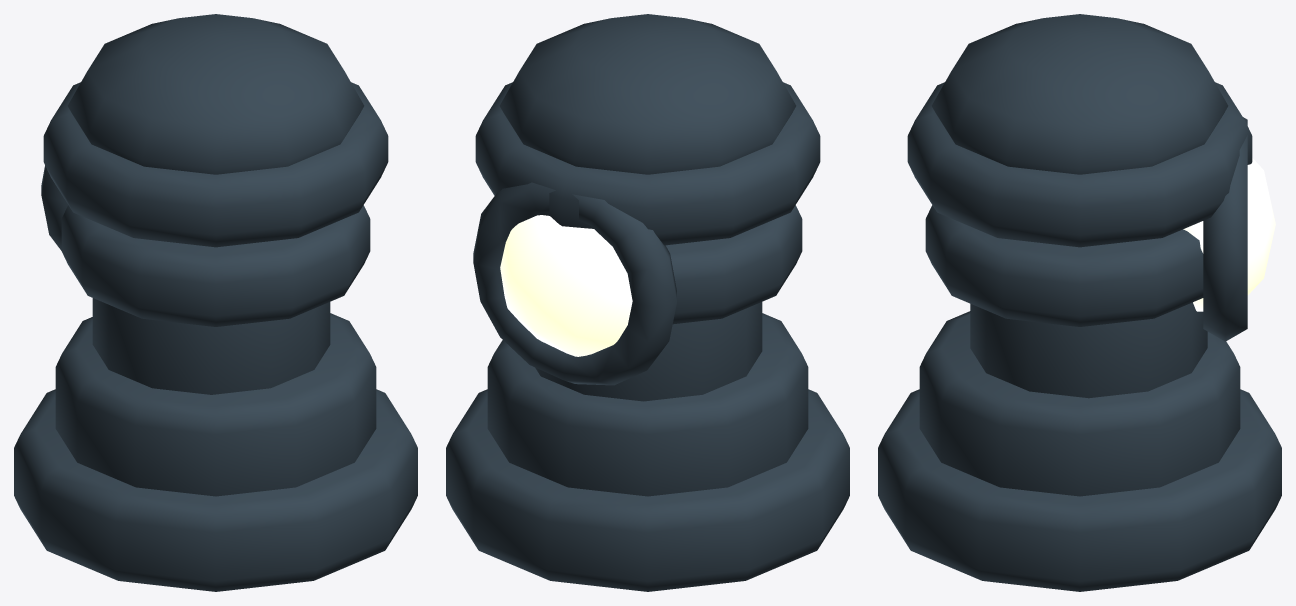
The model's file is PROP_OrbLantern_A.fbx.
The picture shows the model from 3 angles, left to right: view 1: azimuth 30°, elevation 25°; view 2: azimuth 150°, elevation 25°; view 3: azimuth 270°, elevation 25°; orthographic projection.
Visible parts, largest first — view 1: PROP_OrbLantern_A; view 2: PROP_OrbLantern_A; view 3: PROP_OrbLantern_A.
Boxes of the visible parts, x1,y1,x2,y2 form: PROP_OrbLantern_A: (14,14,417,591); PROP_OrbLantern_A: (446,14,849,591); PROP_OrbLantern_A: (878,14,1281,591).
Bounding box in the file's own units: 0.6112 × 0.8 × 0.6112.
